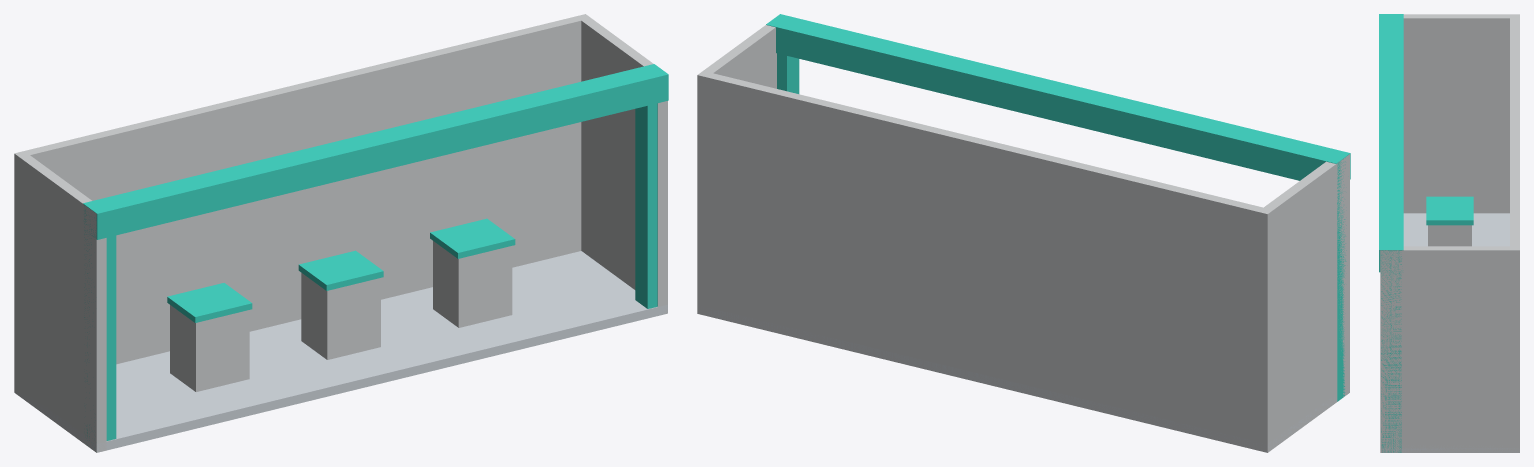
3 renders of one model, left to right at view 1: azimuth 30°, elevation 25°; view 2: azimuth 150°, elevation 25°; view 3: azimuth 270°, elevation 25°, orthographic. The views are drawn at different scales.
Visible parts, largest first — view 1: Exhibition Booth Concept; view 2: Exhibition Booth Concept; view 3: Exhibition Booth Concept.
Part boxes in pixels (x1=…): Exhibition Booth Concept: x1=14, y1=14, x2=668, y2=452; Exhibition Booth Concept: x1=697, y1=14, x2=1350, y2=452; Exhibition Booth Concept: x1=1379, y1=14, x2=1519, y2=452.
Bounding box in the file's own units: 8 × 3.2 × 2.01.
